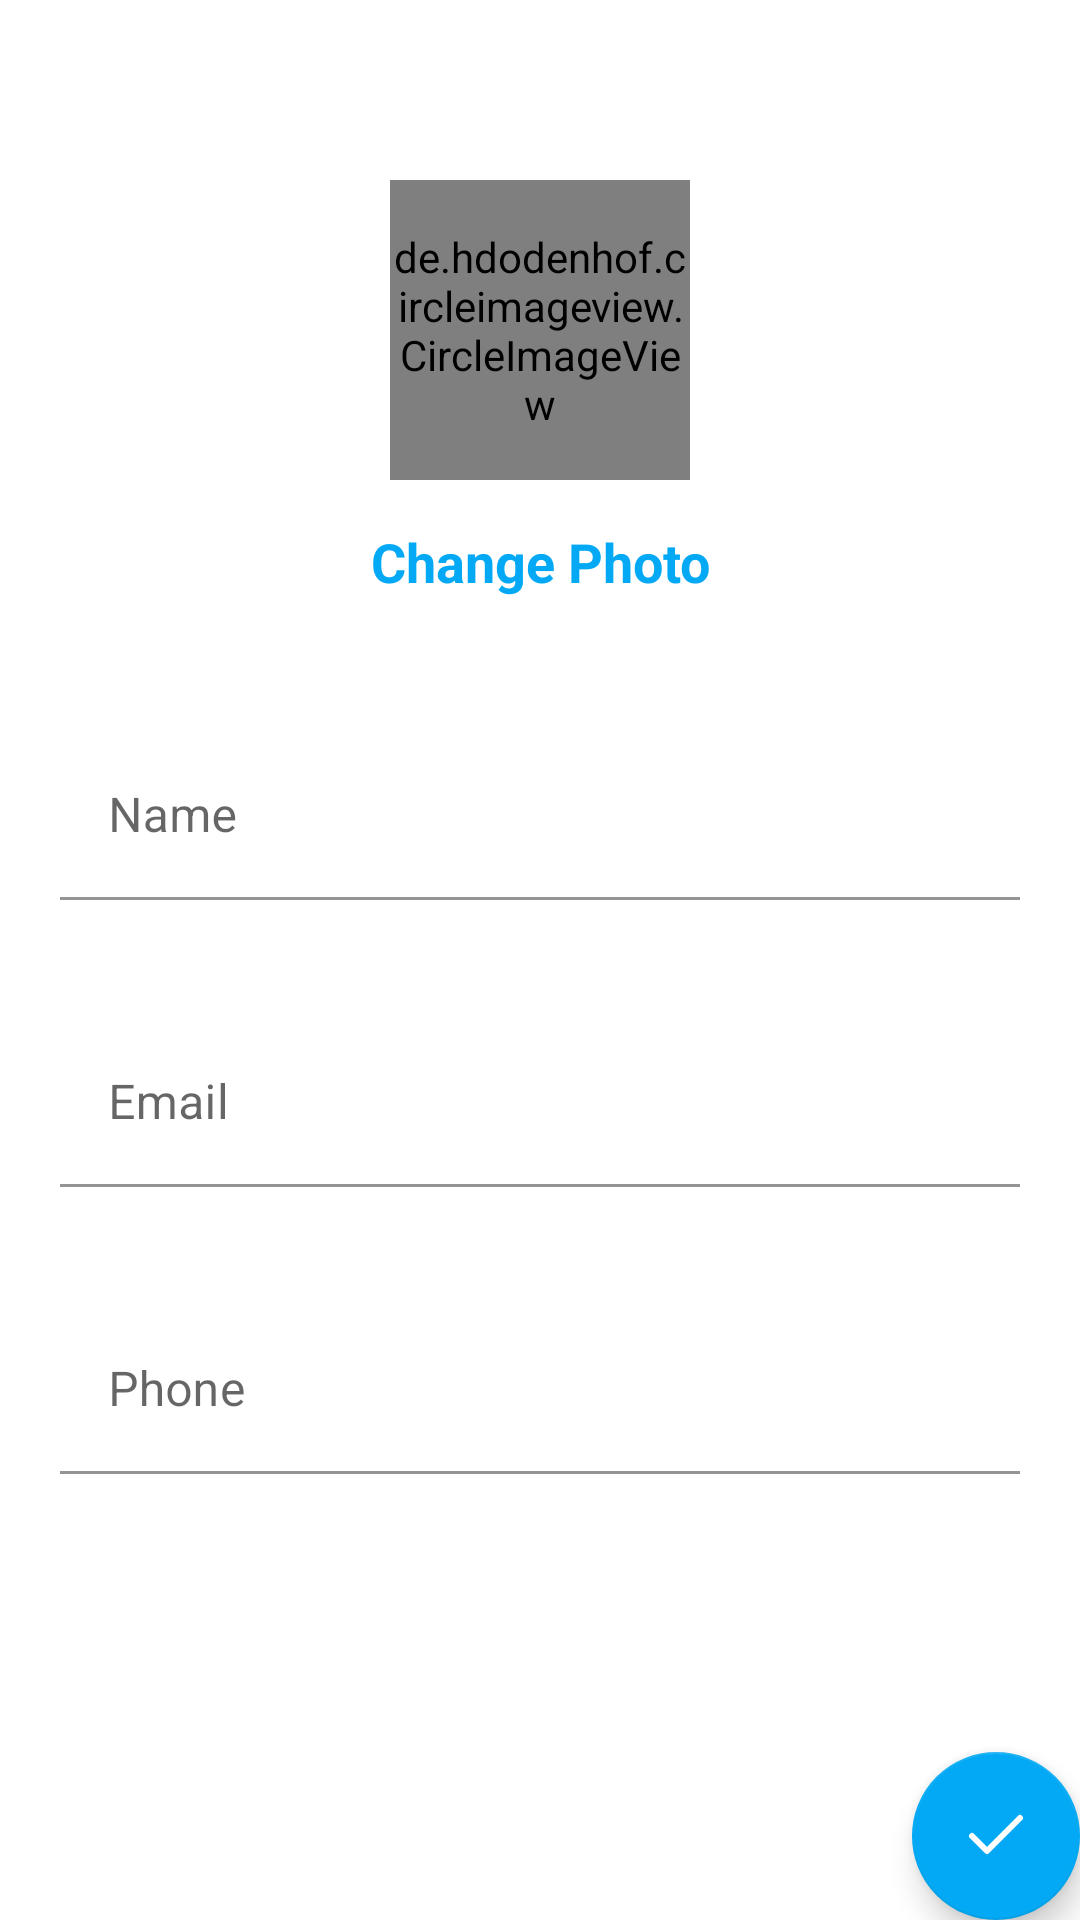

Icon click points for this 1080*1920 phone screenshot, format point (x, y):
check: point (996, 1836)
